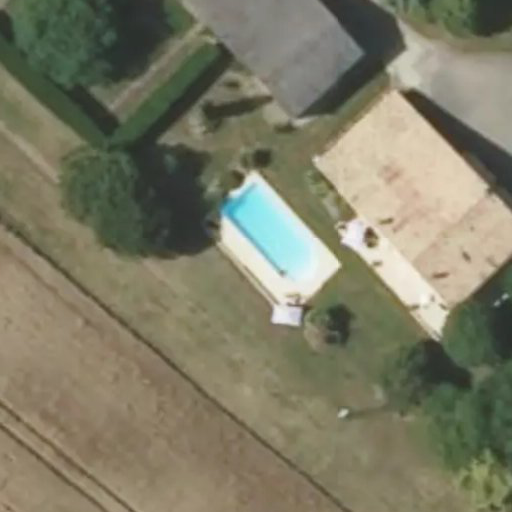pool: (205, 226, 305, 257)
